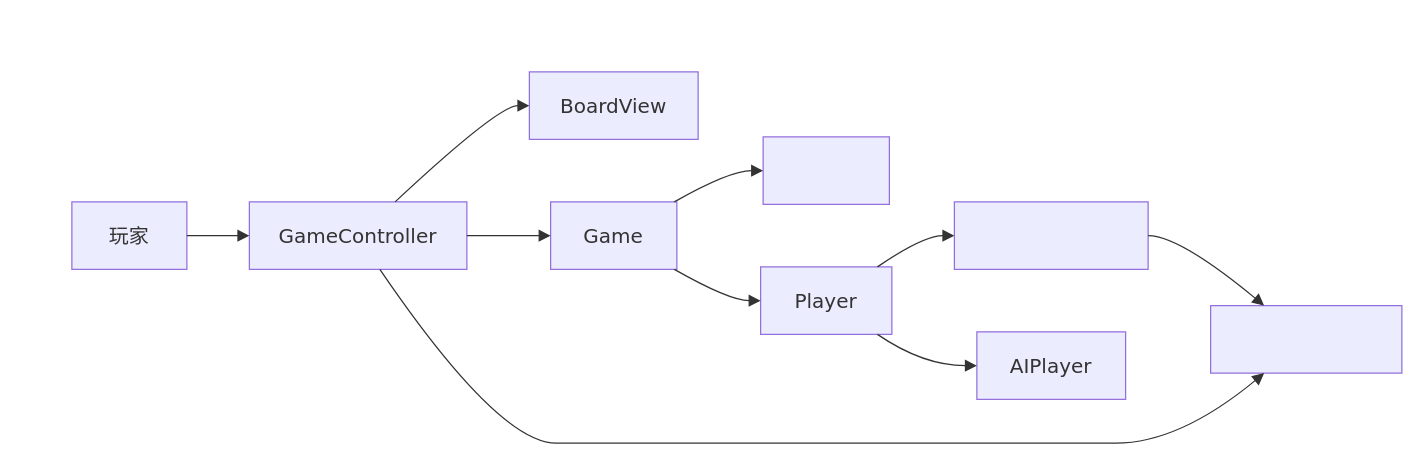
The diagram is 1424 pixels wide and 465 high, and some of its shapes have lost their labels. Here are the shapes that lost their labels. From the top down, the box of each, then its label:
(762, 136, 889, 204): Board
(953, 201, 1148, 269): HumanPlayer
(1209, 304, 1402, 373): ConsoleInput
